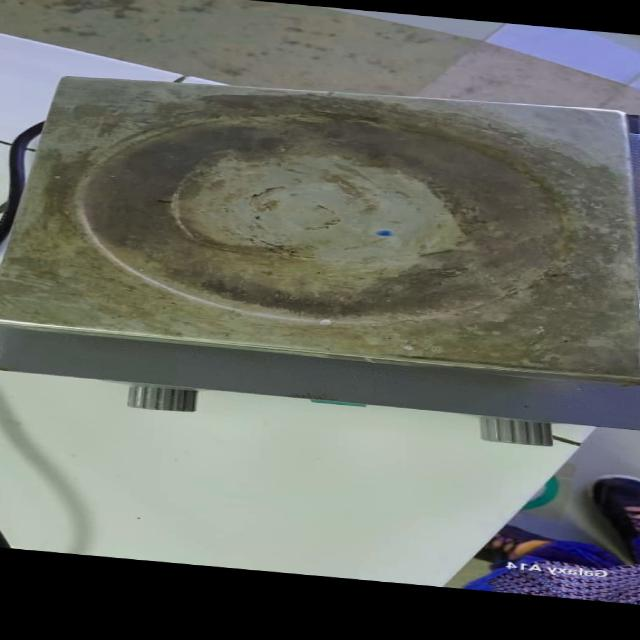Magnetic Stirrer: (0, 56, 640, 462)
